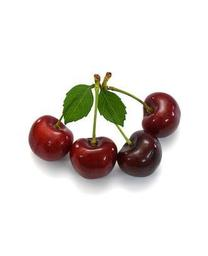cherry: (115, 129, 162, 178), (28, 115, 74, 161), (69, 137, 117, 179), (141, 94, 181, 139)
